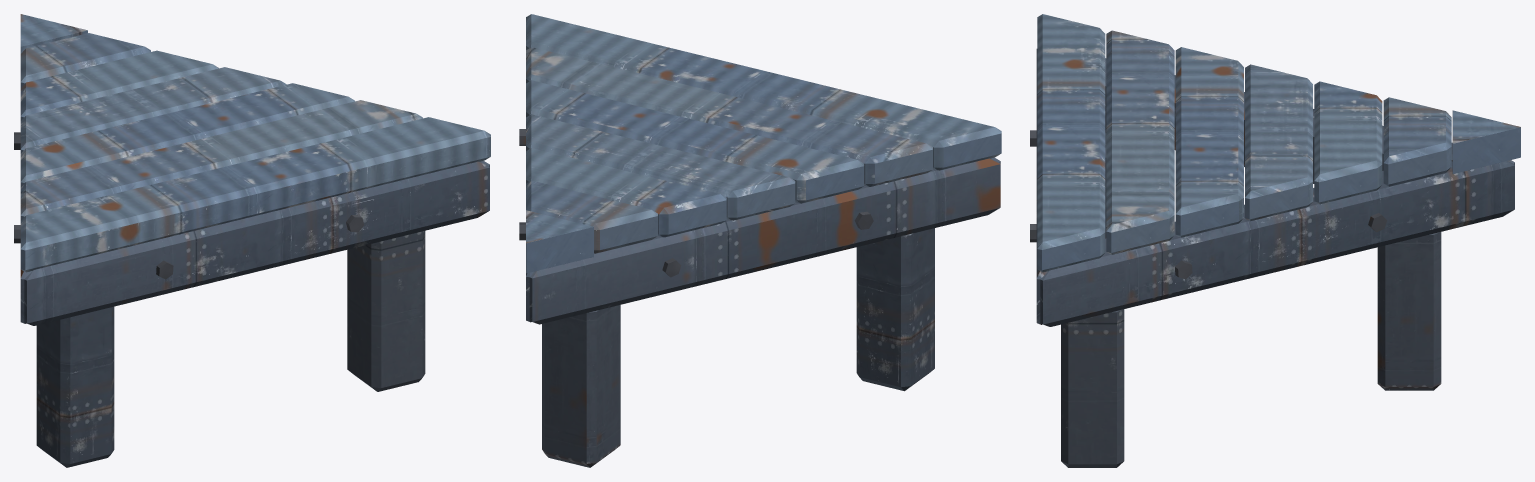
Rendered from ucgen_temel.glb.
3 renders of one model, left to right at view 1: azimuth 30°, elevation 25°; view 2: azimuth 150°, elevation 25°; view 3: azimuth 270°, elevation 25°, orthographic.
Visible parts, largest first — view 1: ucgen_temel; view 2: ucgen_temel; view 3: ucgen_temel.
Part boxes in pixels (<box>): ucgen_temel: <box>14,14,490,467</box>; ucgen_temel: <box>519,14,1001,467</box>; ucgen_temel: <box>1030,14,1520,467</box>.
Bounding box in the file's own units: 2.97 × 1.5 × 2.63.
1 material, 1 textured.
